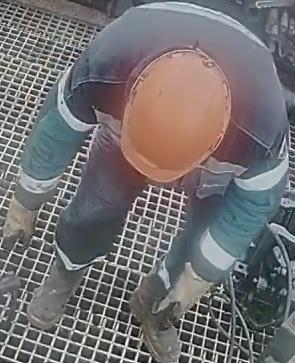gloves: (150, 263, 220, 326), (0, 194, 37, 252)
helmet: (118, 49, 231, 182)
vest: (71, 3, 287, 184)
